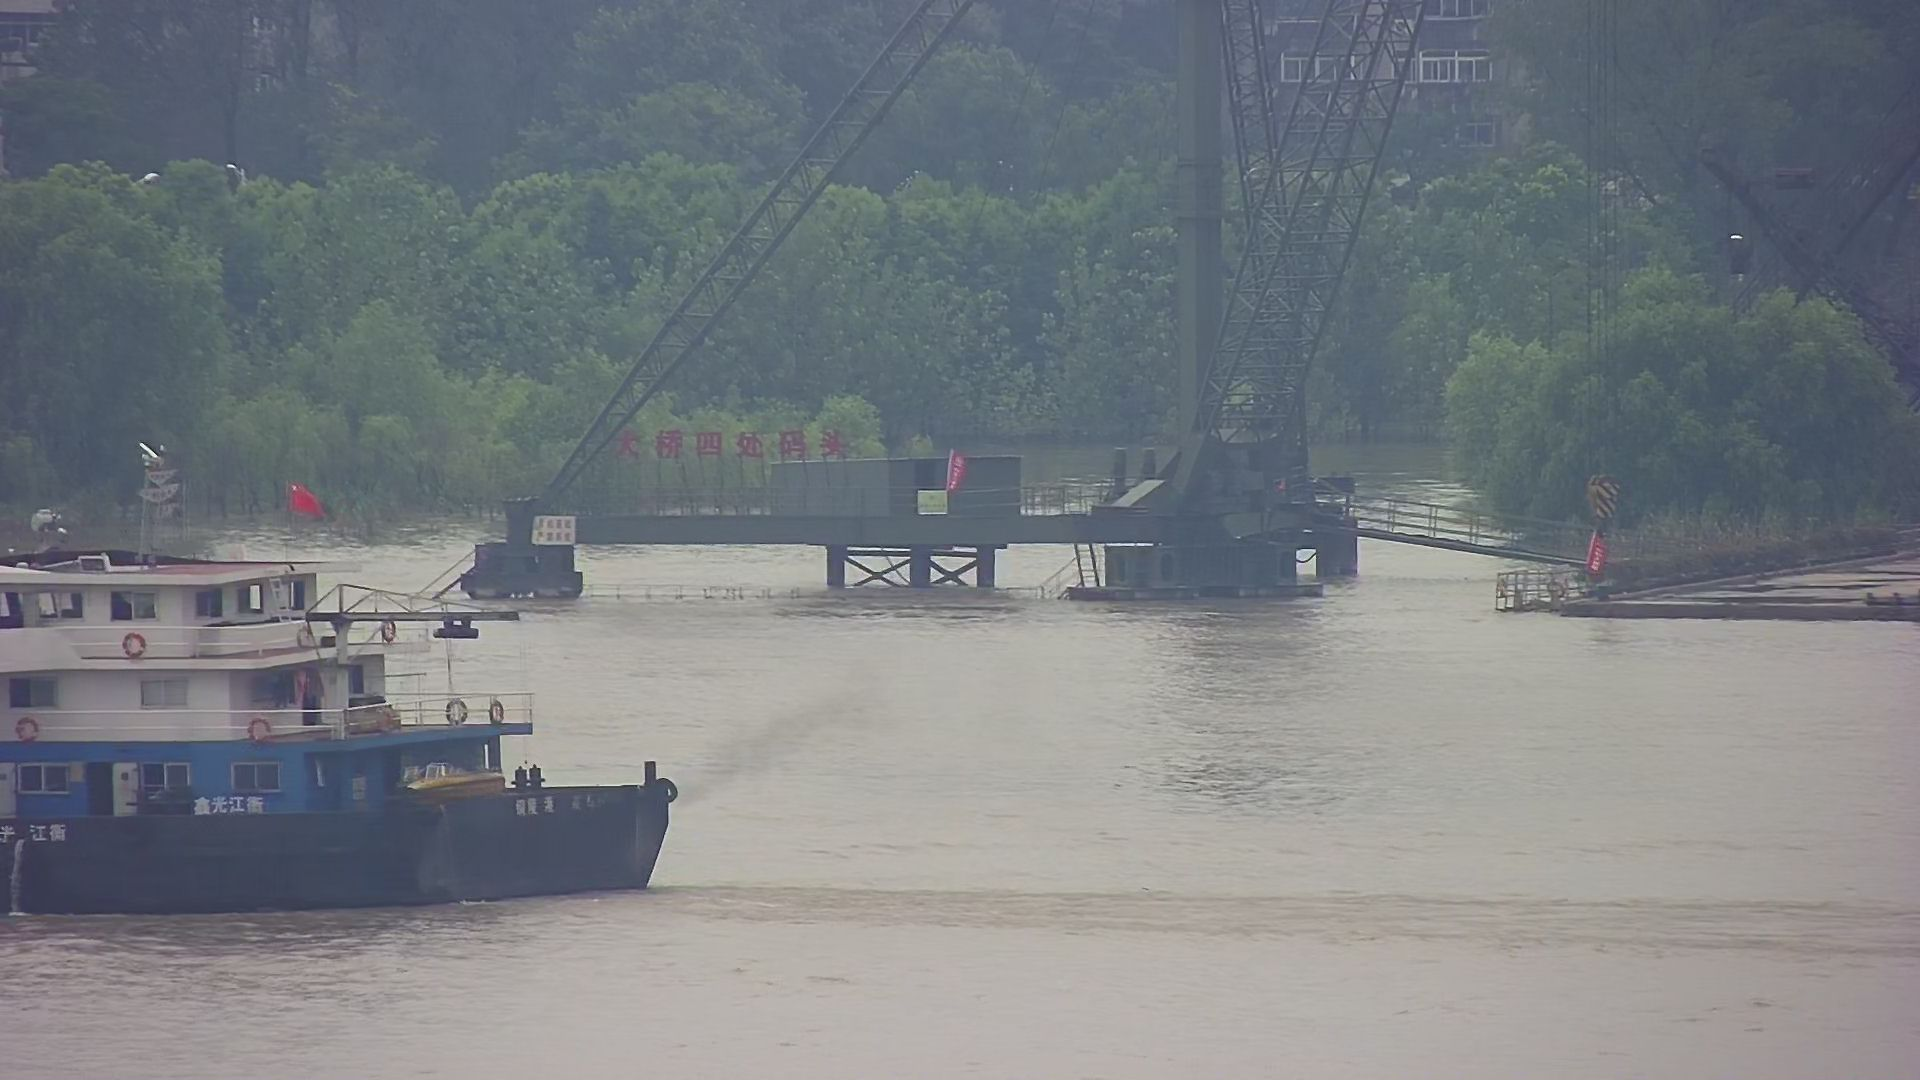platform: (447, 1, 1425, 612)
ship: (1, 431, 684, 920)
